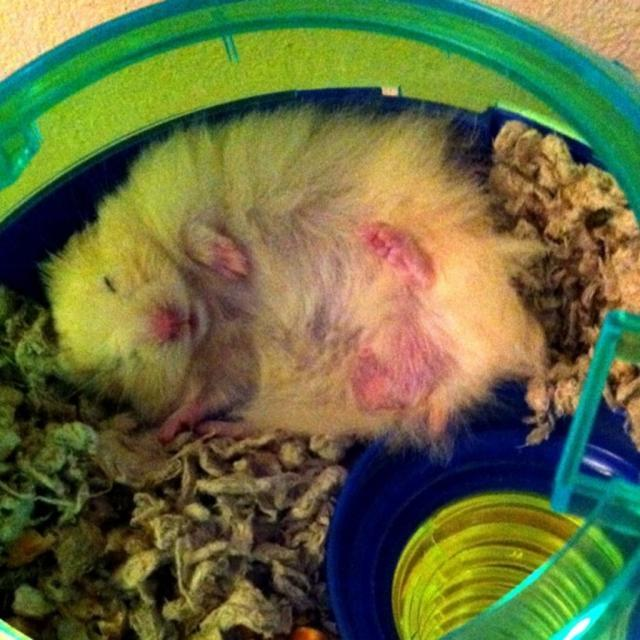rat: (44, 96, 558, 459)
